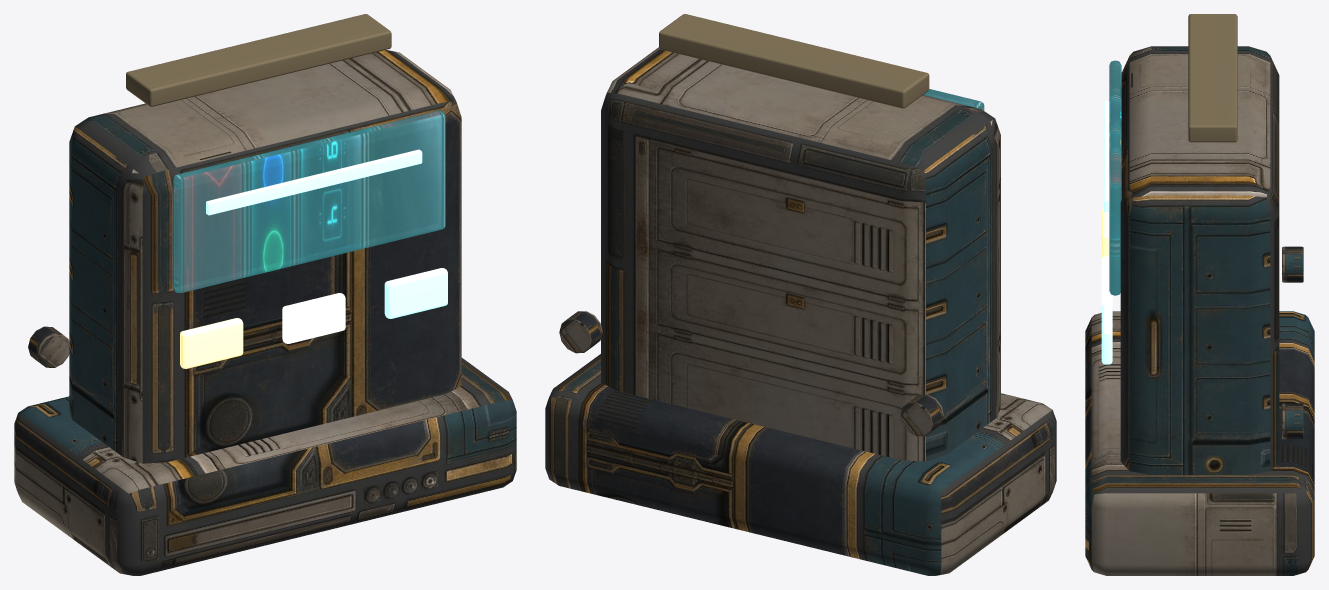
The model's file is hp_terminal_family_light_control_pedestal.glb.
The picture shows the model from 3 angles, left to right: view 1: azimuth 30°, elevation 25°; view 2: azimuth 150°, elevation 25°; view 3: azimuth 270°, elevation 25°; orthographic projection. The views are drawn at different scales.
Visible parts, largest first — view 1: sloped_control_body, grounded_pedestal_base, image2_recessed_light_sequence_screen, blank_sequence_tray_no_answer, cyan_screen_baseline, large_color_button_0, large_color_button_1, large_color_button_2, rear_cable_socket; view 2: sloped_control_body, grounded_pedestal_base, blank_sequence_tray_no_answer, rear_cable_socket, rear_cable_socket.001; view 3: sloped_control_body, grounded_pedestal_base, blank_sequence_tray_no_answer, image2_recessed_light_sequence_screen, rear_cable_socket.001, rear_cable_socket, large_color_button_2, cyan_screen_baseline, large_color_button_1, large_color_button_0.
Part boxes in pixels (box(x1,y1,x2,y2)): sloped_control_body: box(69, 50, 461, 463); grounded_pedestal_base: box(14, 358, 516, 575); image2_recessed_light_sequence_screen: box(173, 111, 445, 292); blank_sequence_tray_no_answer: box(126, 14, 391, 106); cyan_screen_baseline: box(206, 149, 422, 215); large_color_button_0: box(180, 318, 243, 368); large_color_button_1: box(282, 293, 345, 343); large_color_button_2: box(384, 268, 447, 318); rear_cable_socket: box(28, 326, 69, 367); sloped_control_body: box(601, 47, 1000, 461); grounded_pedestal_base: box(545, 354, 1056, 575); blank_sequence_tray_no_answer: box(659, 14, 929, 108); rear_cable_socket: box(900, 394, 943, 436); rear_cable_socket.001: box(559, 311, 602, 353); sloped_control_body: box(1120, 46, 1279, 474); grounded_pedestal_base: box(1085, 311, 1314, 575); blank_sequence_tray_no_answer: box(1188, 14, 1237, 142); image2_recessed_light_sequence_screen: box(1109, 60, 1121, 295); rear_cable_socket.001: box(1282, 403, 1303, 439); rear_cable_socket: box(1282, 246, 1303, 282); large_color_button_2: box(1101, 304, 1112, 364); cyan_screen_baseline: box(1104, 100, 1109, 211); large_color_button_1: box(1101, 256, 1112, 306); large_color_button_0: box(1101, 209, 1109, 258).
Size of the model in its own units: 1.02 by 1.07 by 0.5303.
7 materials, 3 textured.
